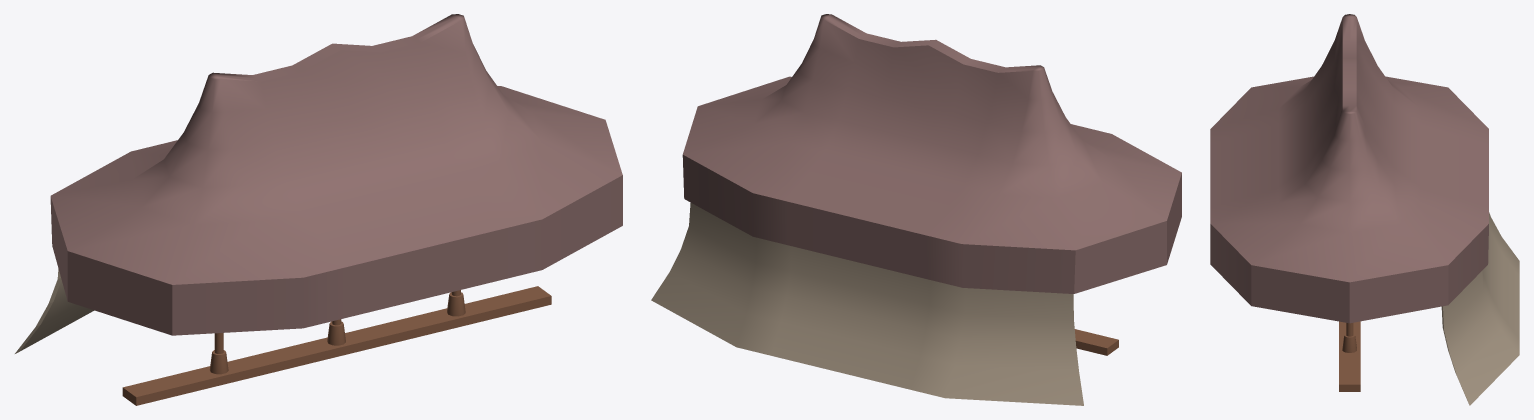
The model's file is TurksTent2.fbx.
3 views of the same model, side by side, from view 1: azimuth 30°, elevation 25°; view 2: azimuth 150°, elevation 25°; view 3: azimuth 270°, elevation 25° (orthographic). The views are drawn at different scales.
Parts seen in each view (by area): view 1: polySurface1, pCube1, pCylinder6; view 2: polySurface1, pCube1; view 3: polySurface1, pCube1, pCylinder2.
Part boxes in pixels (x1,y1,x2,y2): polySurface1: (15, 14, 622, 353); pCube1: (122, 286, 551, 405); pCylinder6: (209, 333, 228, 374); polySurface1: (651, 14, 1181, 405); pCube1: (1074, 329, 1118, 355); polySurface1: (1210, 14, 1519, 405); pCube1: (1339, 321, 1360, 391); pCylinder2: (1342, 323, 1356, 352).
Size of the model in its own units: 8.32 by 4.49 by 5.12.
